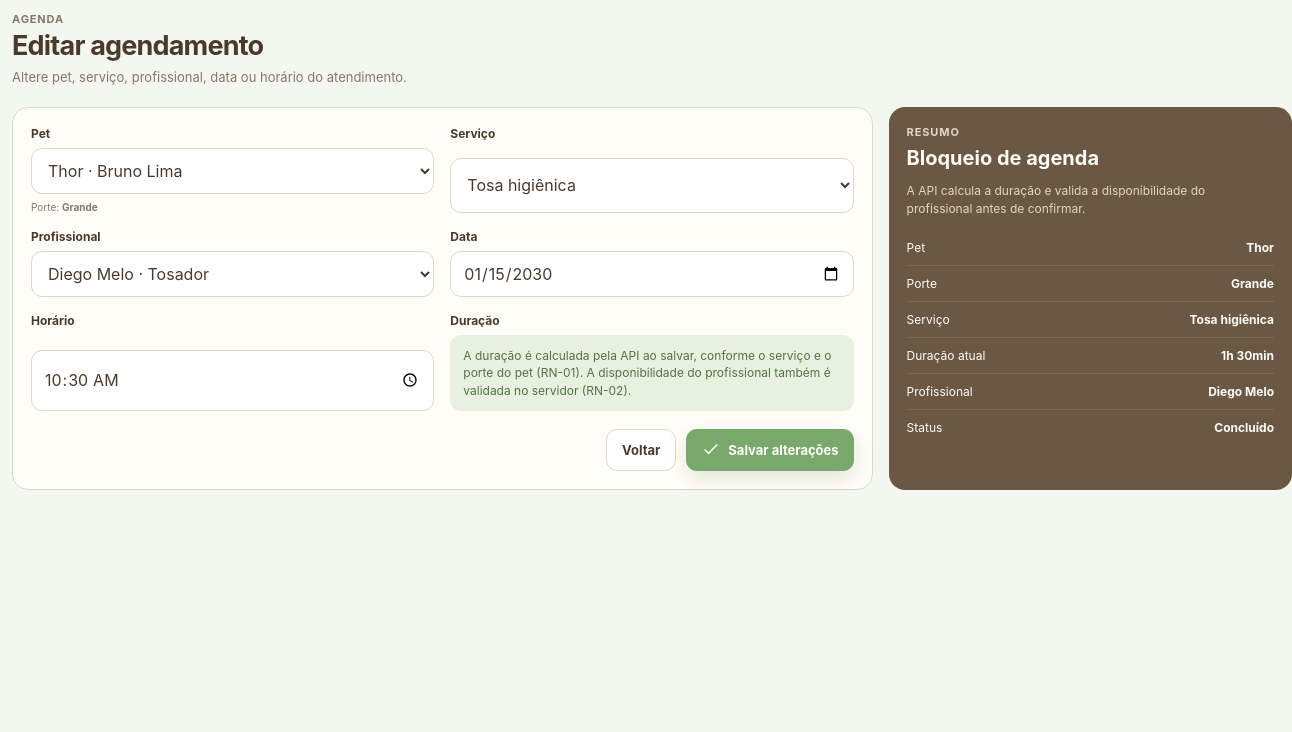
Test: UI | AgendamentoForm — Modo edição › deve exibir o erro da API quando o agendamento não puder ser editado
This screenshot has width=1292, height=732.
Click the button "Salvar alterações" at (770, 450), box [686,429,854,471]
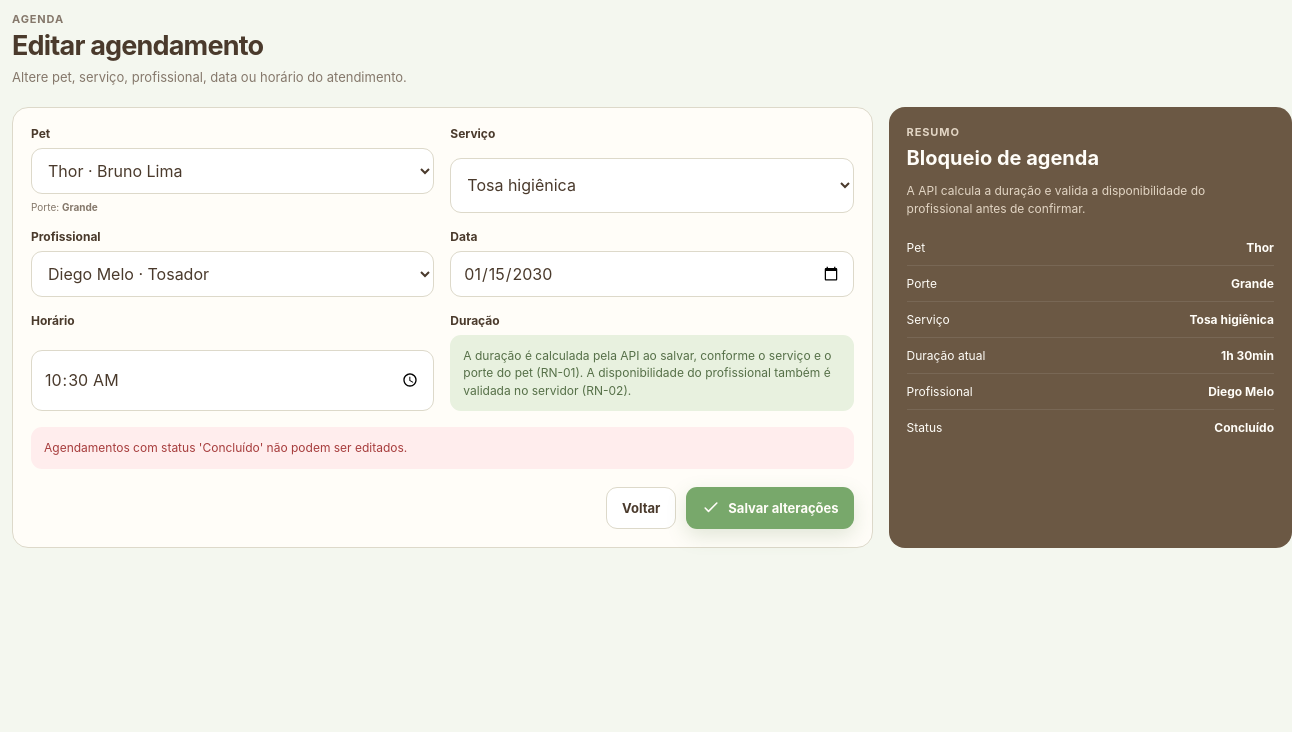
Now the message shows "não podem ser editados", box [44,440,407,455]
